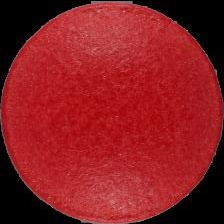50844-112: (0, 0, 224, 224)
